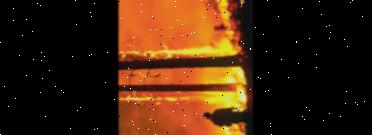fire: (119, 42, 237, 56), (119, 92, 249, 104), (209, 0, 235, 27), (210, 66, 244, 82), (207, 127, 243, 135)
